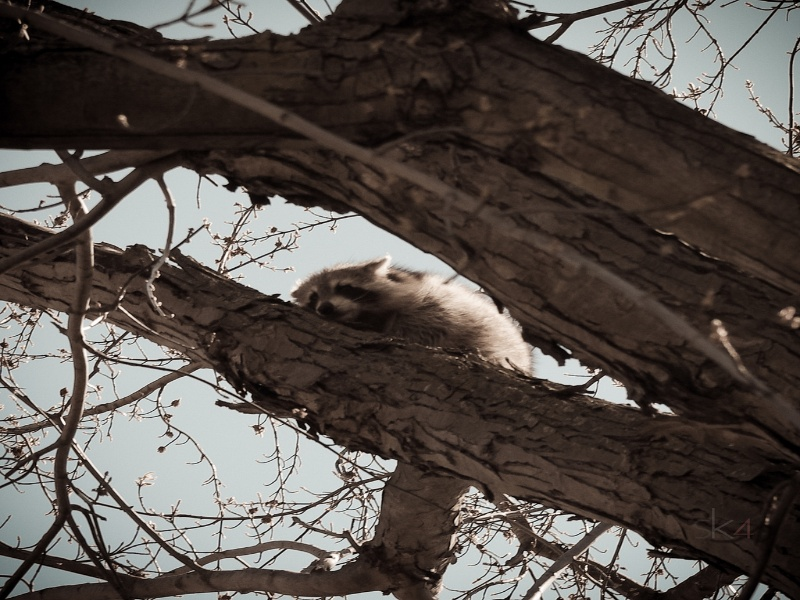raccoon: (286, 256, 534, 381)
